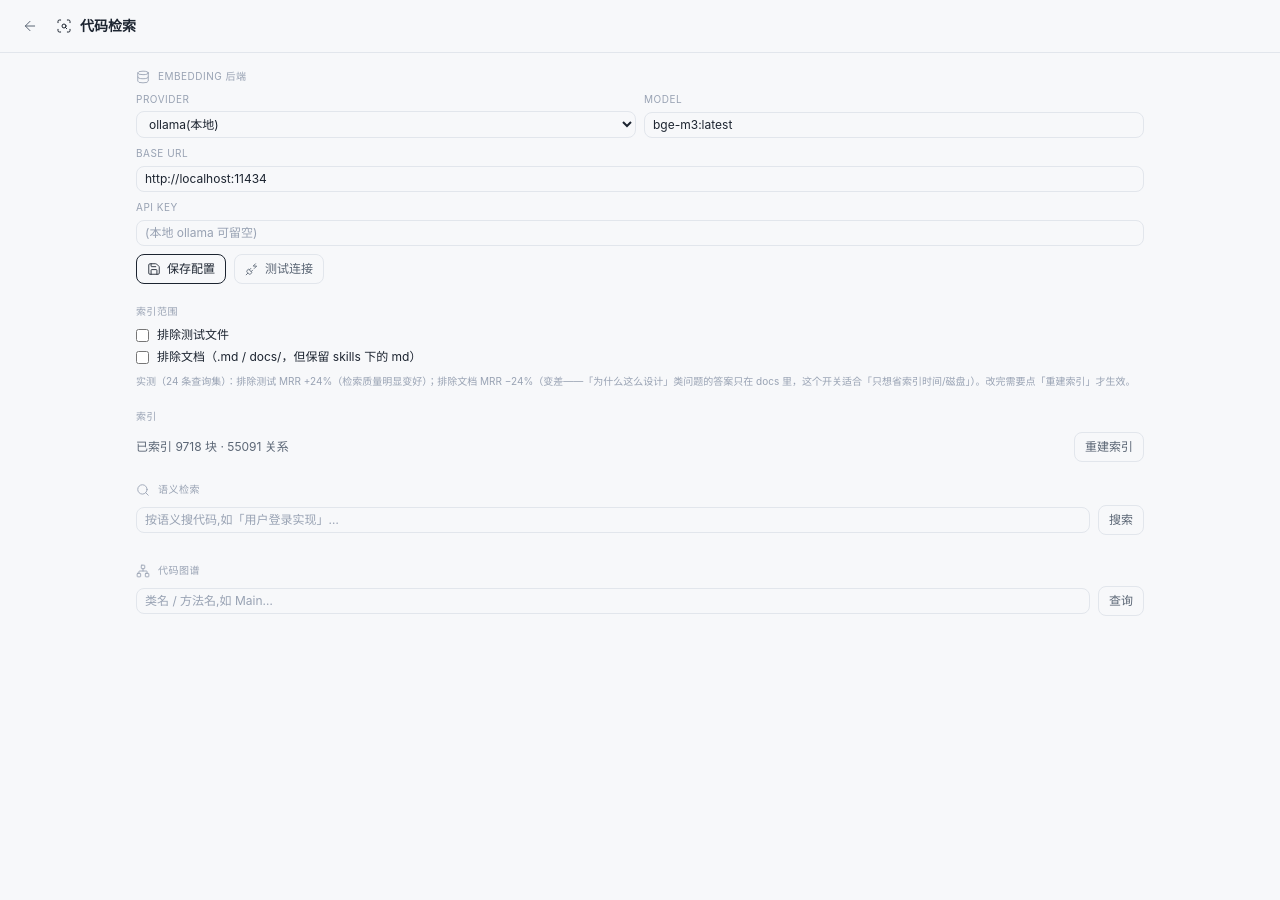
Test case: RagPanel 索引进度 › 没有排除任何东西时不画构成条 —— 一条单色满格条没有信息量
Click the button "重建索引": point(1109, 447) [1074, 432, 1144, 462]
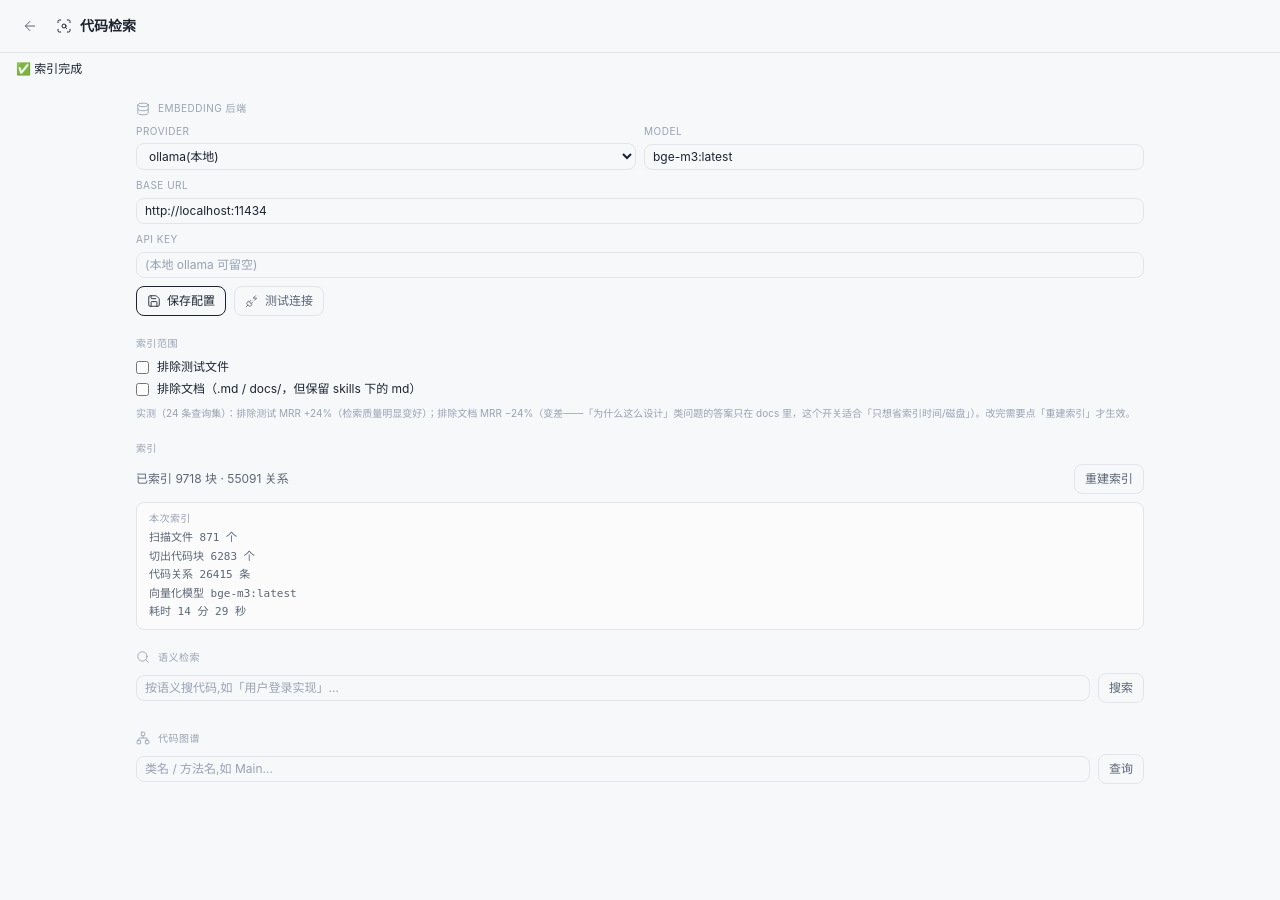
Check: the element with test id "rag-index-summary" is shown, box [136, 502, 1144, 630]
